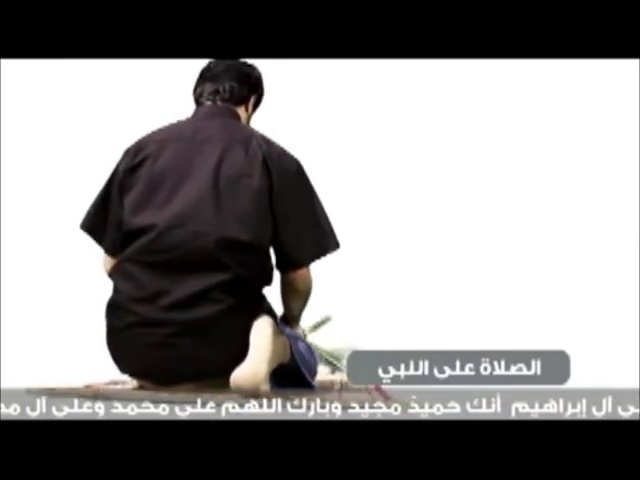sitting: (76, 58, 343, 397)
